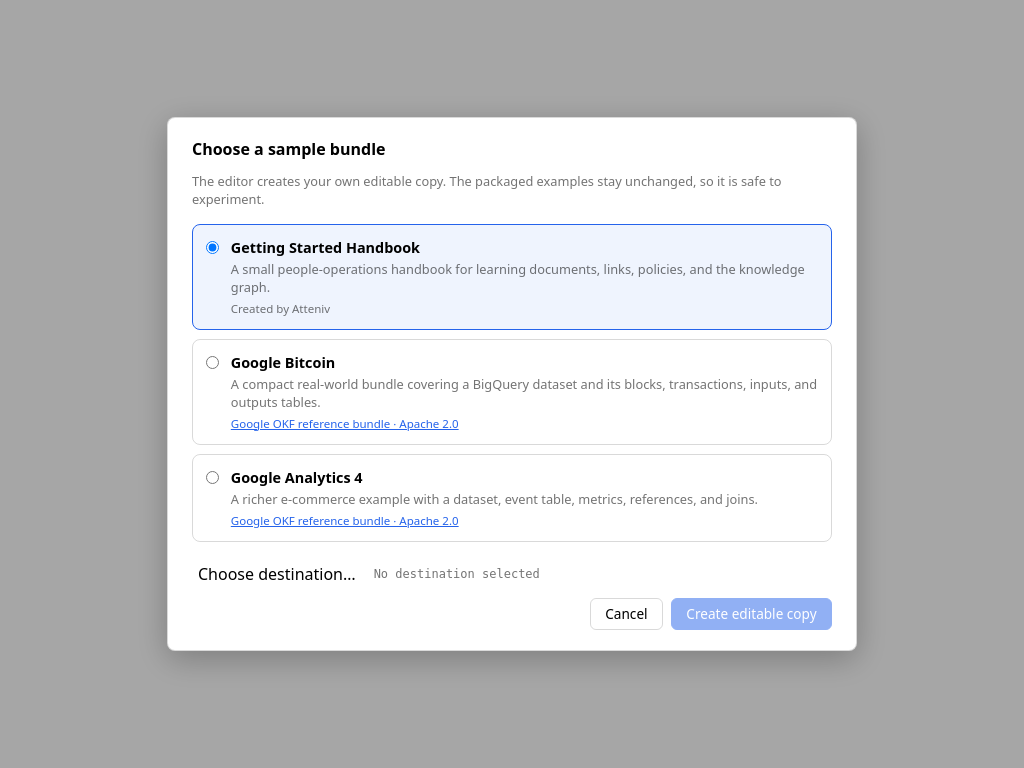
Test case: SampleBundleDialog › refuses to overwrite an existing sample folder
This screenshot has width=1024, height=768.
What coordinates should you click on to do the following:
click the button "Choose destination…"
I would click on:
 (277, 574)
Its box is [192,562,362,586].
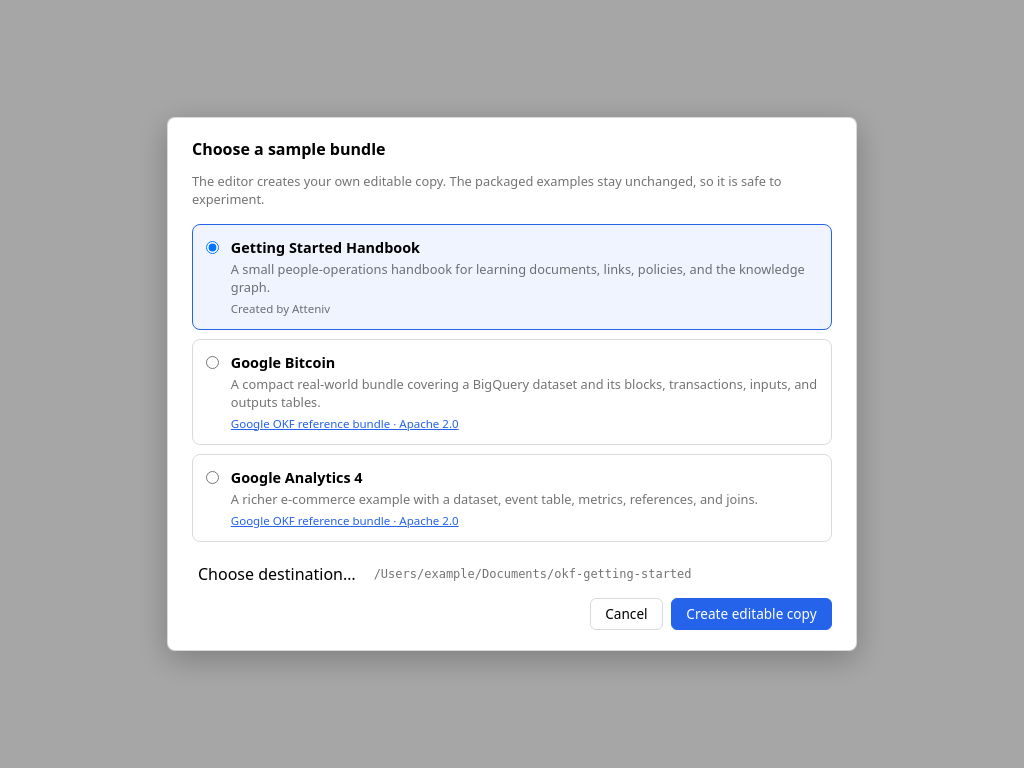
What coordinates should you click on to do the following:
click the button "Create editable copy"
I would click on:
 (752, 614)
Its box is [671,598,832,630].
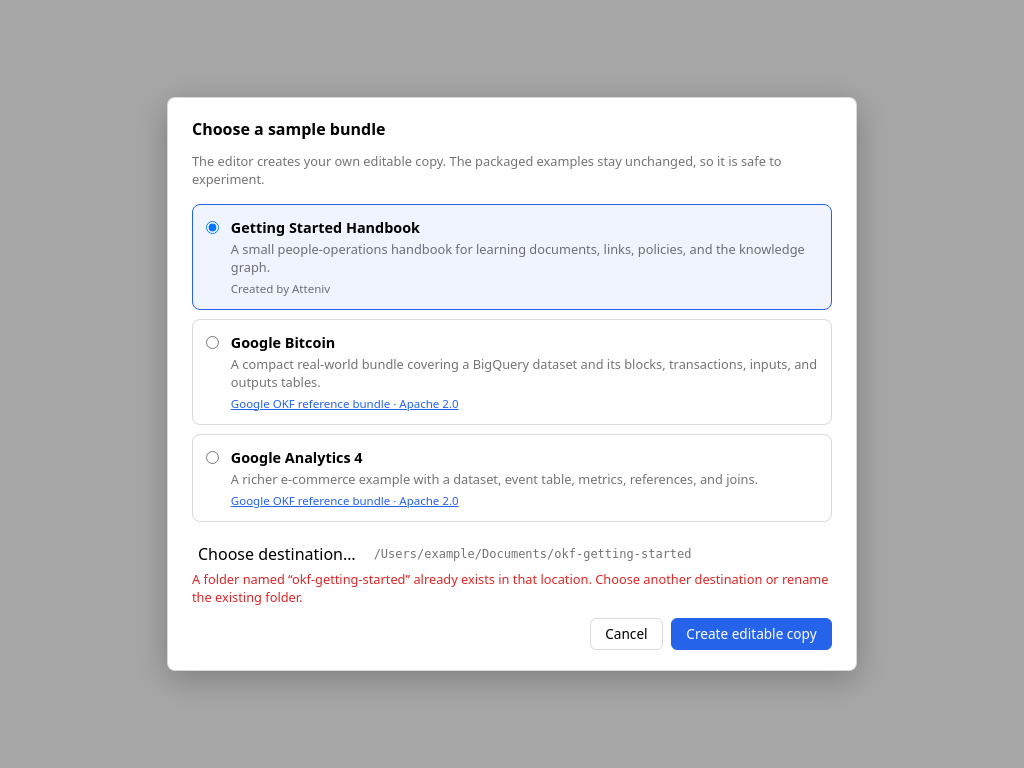
expect the text "already exists" is shown: met, box [192,570,828,606]
